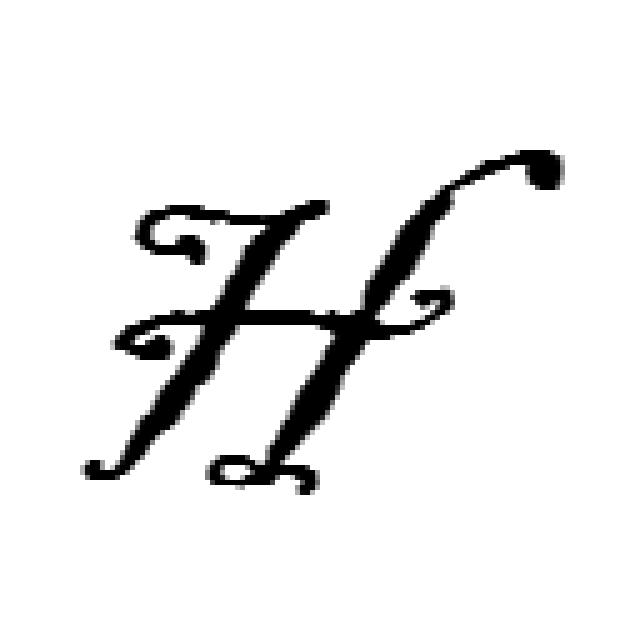H: (177, 190, 452, 490)
